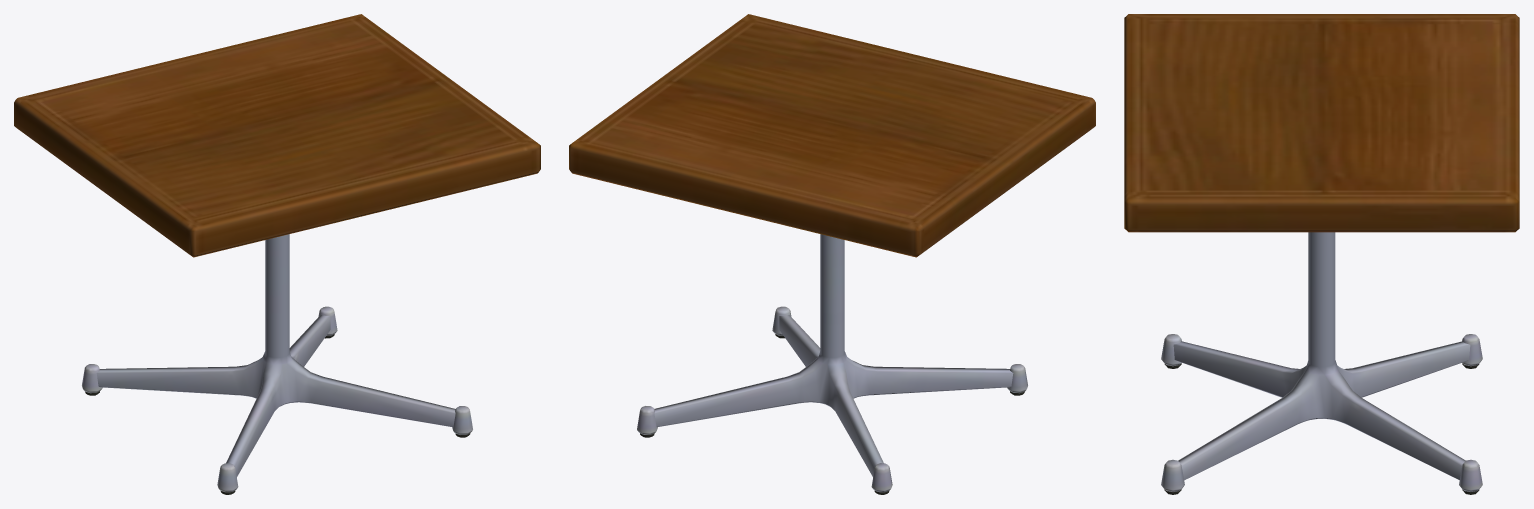
3 views of the same model, side by side, from view 1: azimuth 30°, elevation 25°; view 2: azimuth 150°, elevation 25°; view 3: azimuth 270°, elevation 25° (orthographic). The views are drawn at different scales.
Bounding box in the file's own units: 10 × 8 × 8.88.
1 material, 1 textured.
